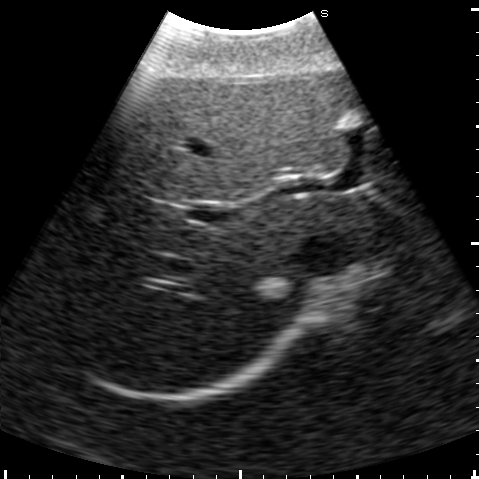IVC: (301, 235, 355, 273)
S1: (291, 198, 407, 249)
S2: (374, 186, 437, 231)
S3: (365, 131, 409, 190)
S4: (139, 66, 361, 198)
Tumor: (257, 278, 289, 298), (335, 111, 364, 130)
